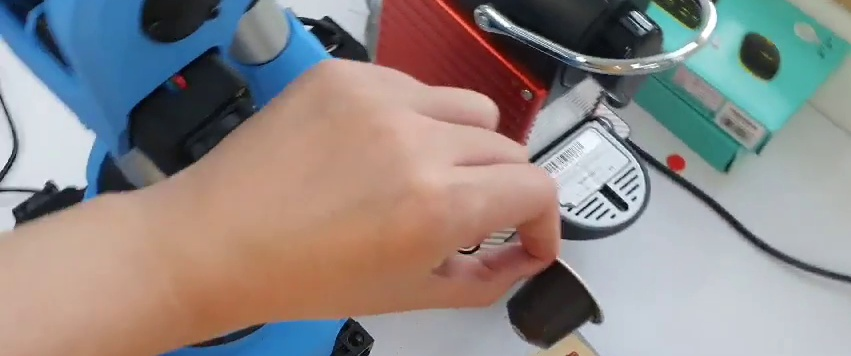capsule_4: (503, 249, 605, 352)
